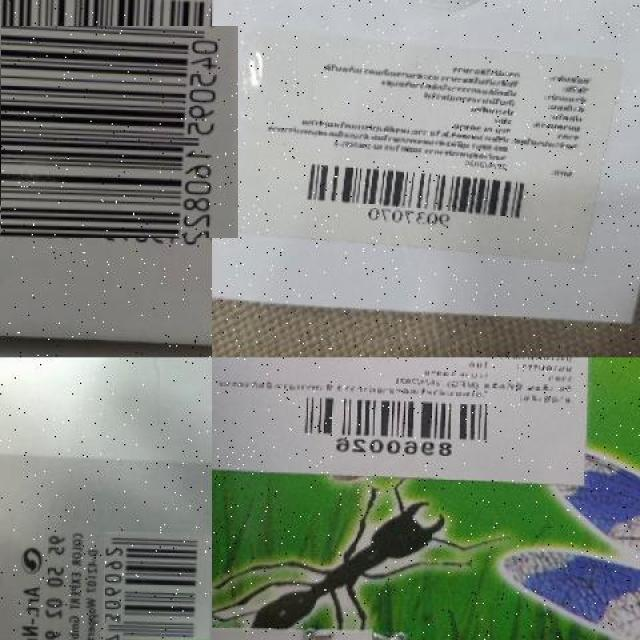Barcode: (0, 13, 226, 251), (289, 160, 539, 232), (294, 395, 510, 460), (105, 533, 212, 640)
